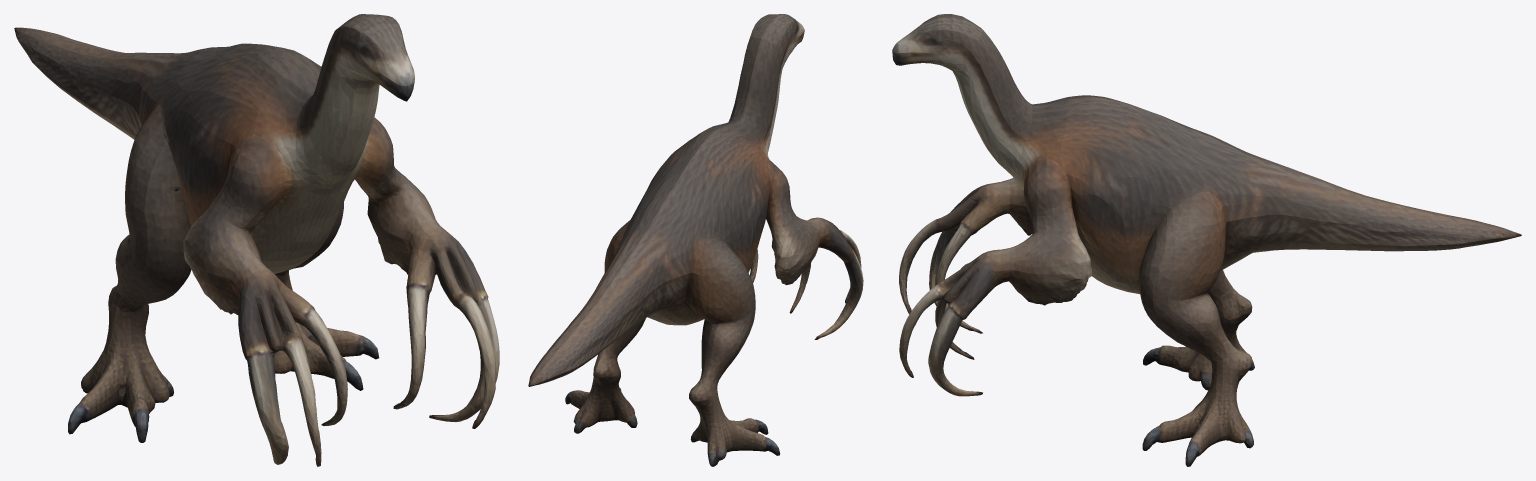
3 views of the same model, side by side, from view 1: azimuth 30°, elevation 25°; view 2: azimuth 150°, elevation 25°; view 3: azimuth 270°, elevation 25° (orthographic). The views are drawn at different scales.
Visible parts, largest first — view 1: world; view 2: world; view 3: world.
Part boxes in pixels (<box>): world: <box>14,14,499,466</box>; world: <box>528,14,863,466</box>; world: <box>892,14,1521,466</box>.
Bounding box in the file's own units: 0.4517 × 0.6814 × 0.9928.
1 material, 1 textured.
